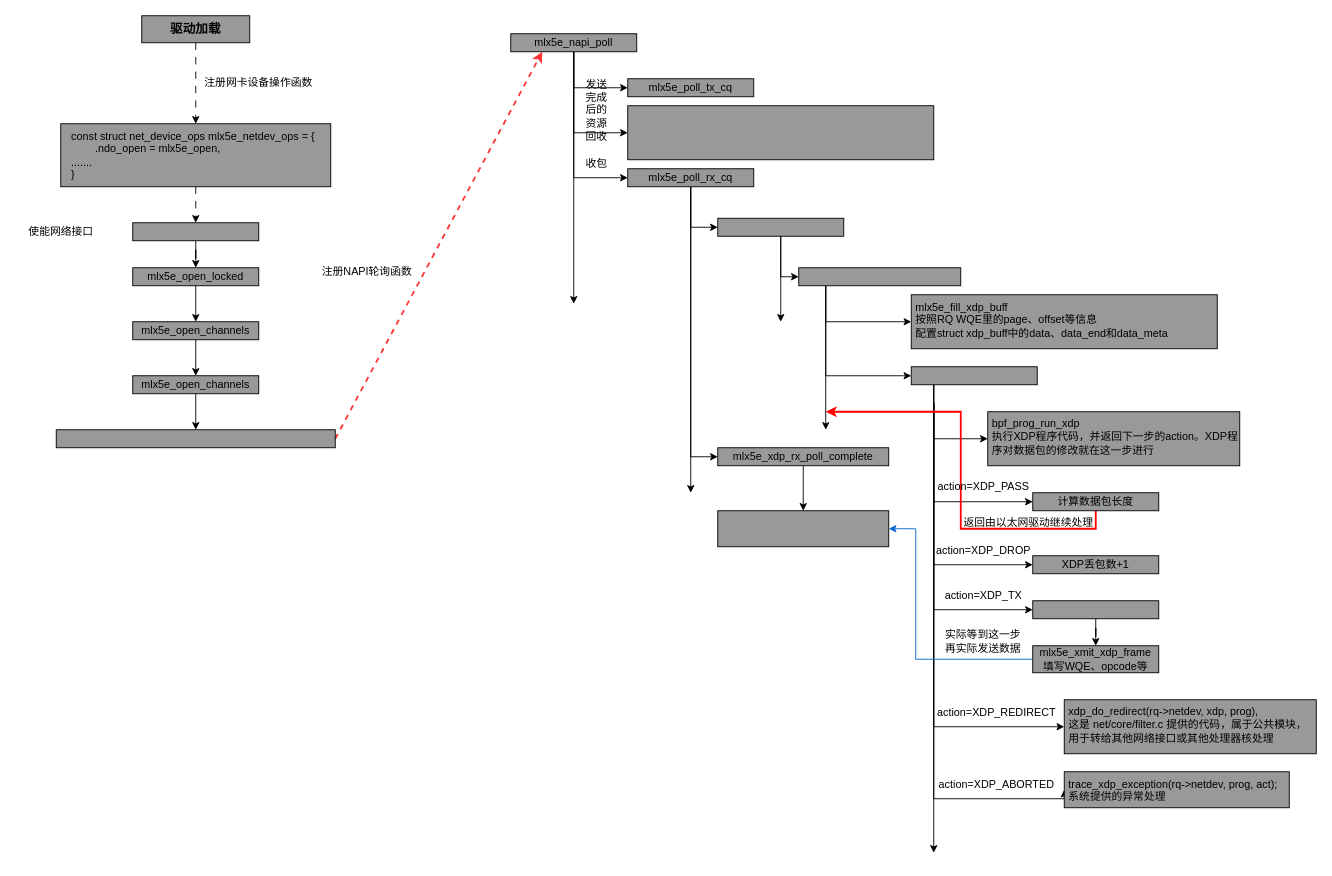
Image size: 1332x876. Some labels were removed from this diagram. Here are the shapes that lost their labels. From the top down, the box of each, then its label:
(627, 105, 934, 160): mlx5e_poll_tx_cq CQ对应了一个专门的XDP SQ，这一步的作用主要是发送完成后的收尾，比如回收SQ描述符的地址空间，写CQ Doorbell等
(132, 222, 259, 241): mlx5e_open
(717, 217, 844, 236): mlx5e_handle_rx_cqe
(798, 267, 961, 286): mlx5e_skb_from_cqe_linear
(910, 366, 1037, 385): mlx5e_xdp_handle
(55, 429, 335, 448): netif_napi_add(netdev, &c->napi, mlx5e_napi_poll, 64);
(717, 510, 889, 547): mlx5e_xmit_xdp_doorbell 写Doorbell，将数据从原端口发出
(1032, 600, 1159, 619): mlx5e_xmit_xdp_buff
